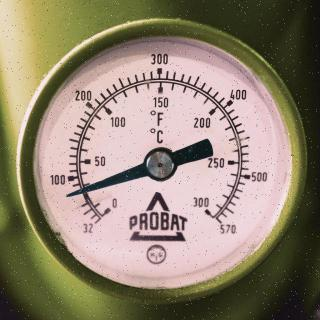gauge: (6, 13, 318, 317), (143, 146, 177, 182), (92, 195, 120, 227), (205, 207, 232, 236), (62, 188, 76, 200)
